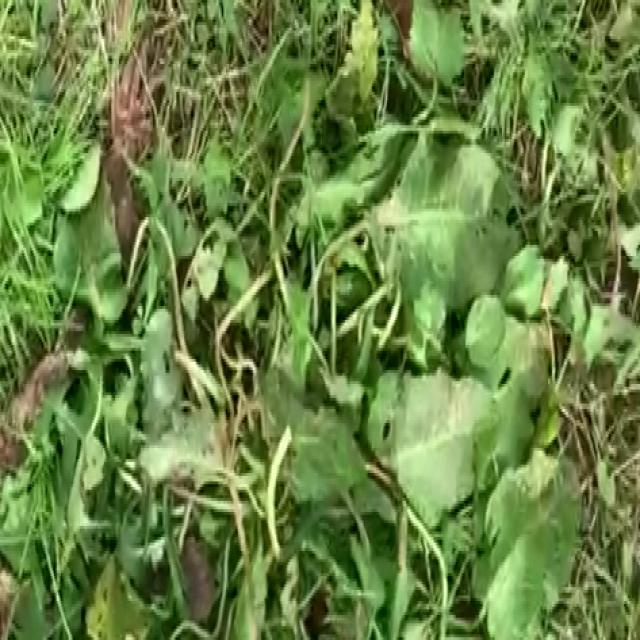organic waste: (50, 72, 582, 640)
